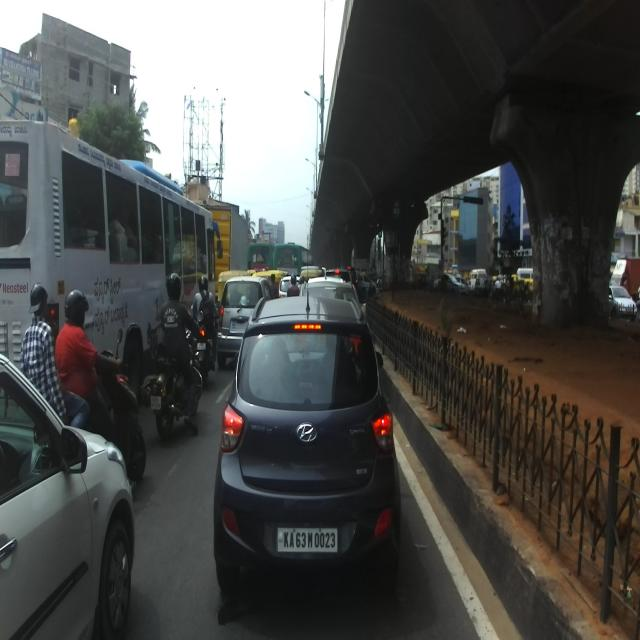Car_Hyundai: (211, 275, 402, 592), (218, 276, 272, 365)
Car_Maruti-Suzuki: (0, 351, 134, 639)
autorickshaw: (217, 269, 248, 313), (300, 268, 322, 284)
bus: (0, 116, 222, 407), (273, 241, 313, 279), (247, 242, 275, 274)
motorcycle: (190, 300, 220, 388)
motorcycle_RoyalEnfield: (146, 310, 203, 440)
scooter: (68, 327, 146, 483)
